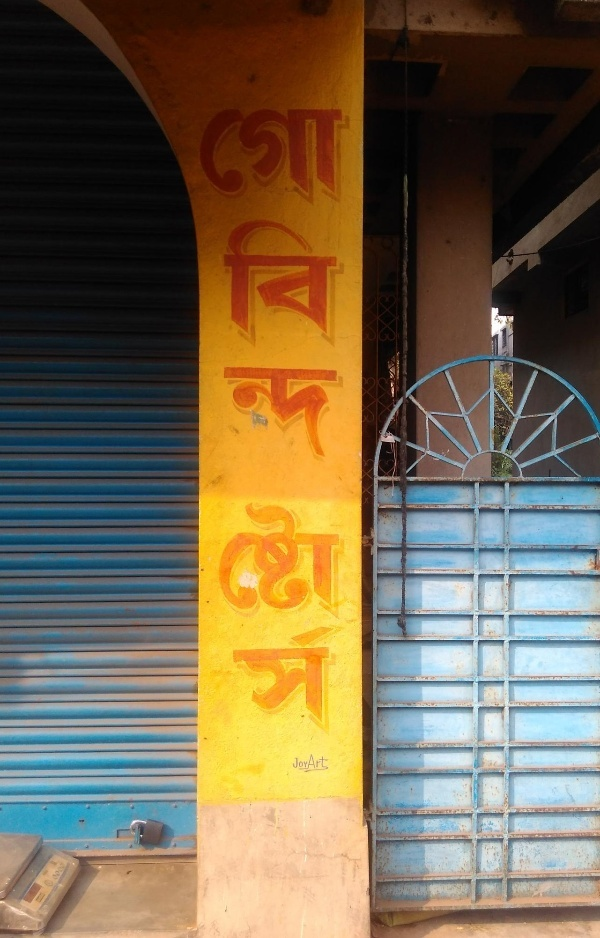text: (193, 92, 208, 462), (209, 92, 224, 462), (225, 92, 240, 462), (241, 92, 256, 462), (257, 92, 272, 462), (273, 92, 288, 462), (289, 92, 304, 462), (305, 92, 320, 462), (321, 92, 336, 462), (337, 92, 348, 462), (225, 502, 240, 736), (241, 502, 256, 736), (257, 502, 272, 736), (273, 502, 288, 736), (289, 502, 304, 736), (305, 502, 320, 736), (321, 502, 336, 736), (217, 502, 224, 736), (337, 502, 344, 736), (33, 858, 48, 910), (49, 858, 64, 910), (65, 858, 76, 910), (24, 858, 32, 910), (191, 92, 192, 462), (305, 750, 320, 773), (293, 750, 304, 773), (321, 750, 330, 773)
